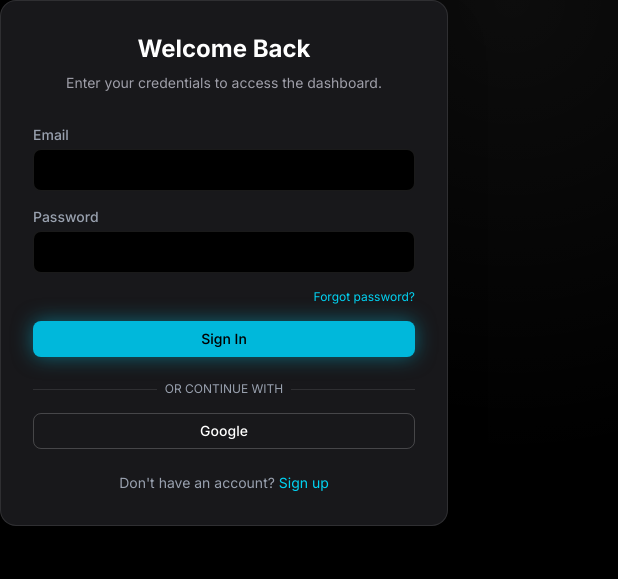
Test: AuthForm › Login Mode › displays error message on login failure
The image size is (618, 579).
In the field labelled "Email": (224, 170) [33,149,415,191], type "wrong@example.com"
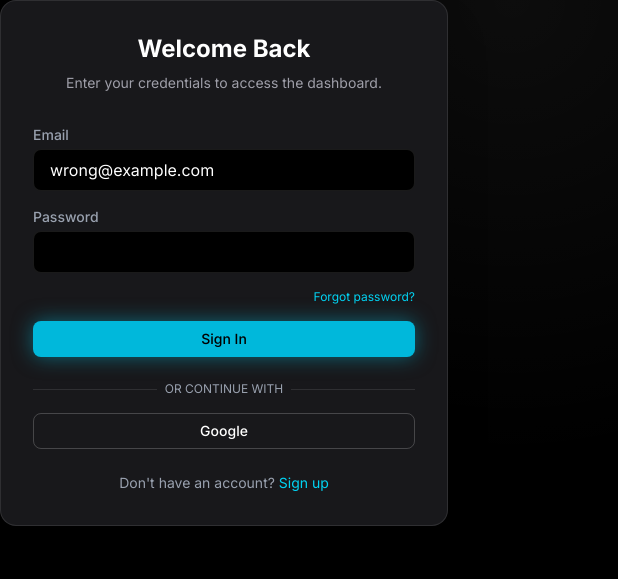
In the password field labelled "Password": (224, 252) [33,231,415,273], type "wrongpass"
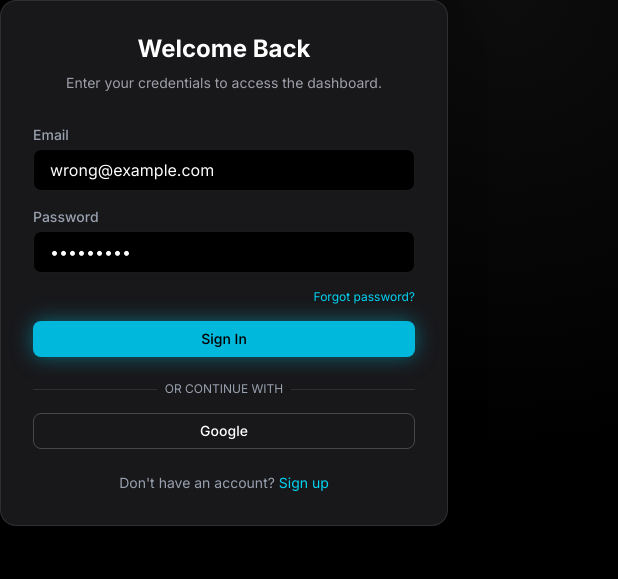
Click the button "Sign In": (224, 339) [33,321,415,357]
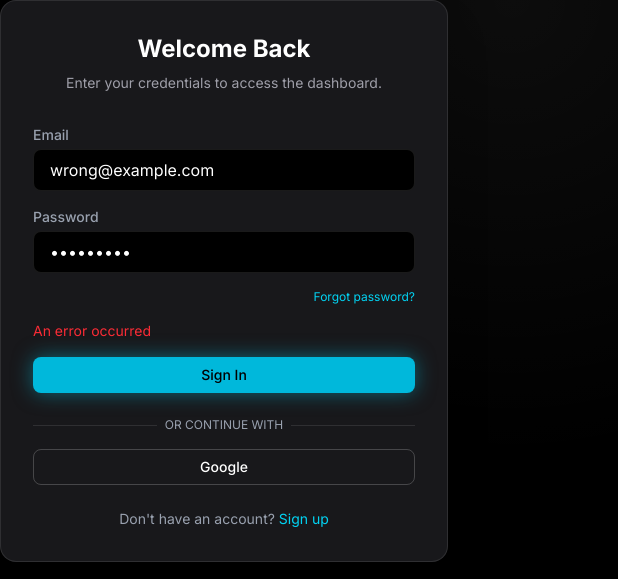
Check: the text "An error occurred" is shown, box [33,322,151,339]
